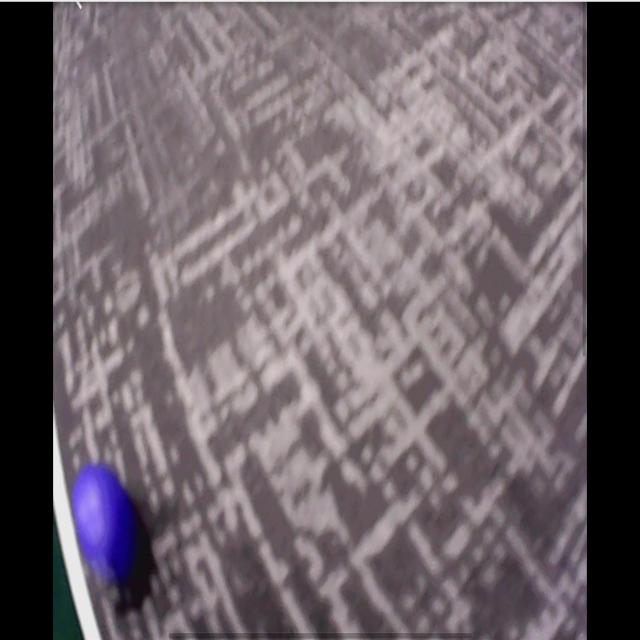ball: (74, 467, 140, 585)
